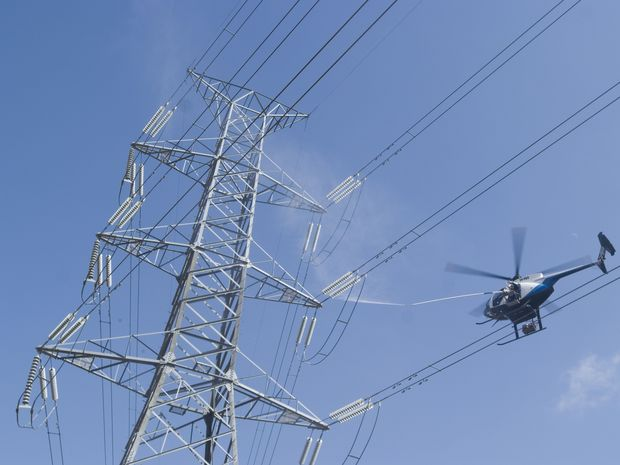isolator: (329, 396, 374, 424), (48, 313, 87, 344), (322, 270, 362, 299), (107, 197, 142, 228), (143, 106, 175, 138), (327, 176, 362, 204), (23, 355, 40, 404), (298, 437, 323, 465), (39, 368, 60, 401), (295, 315, 316, 346), (96, 254, 114, 289), (302, 222, 321, 252), (129, 163, 145, 198), (87, 240, 100, 280), (124, 148, 135, 180)
